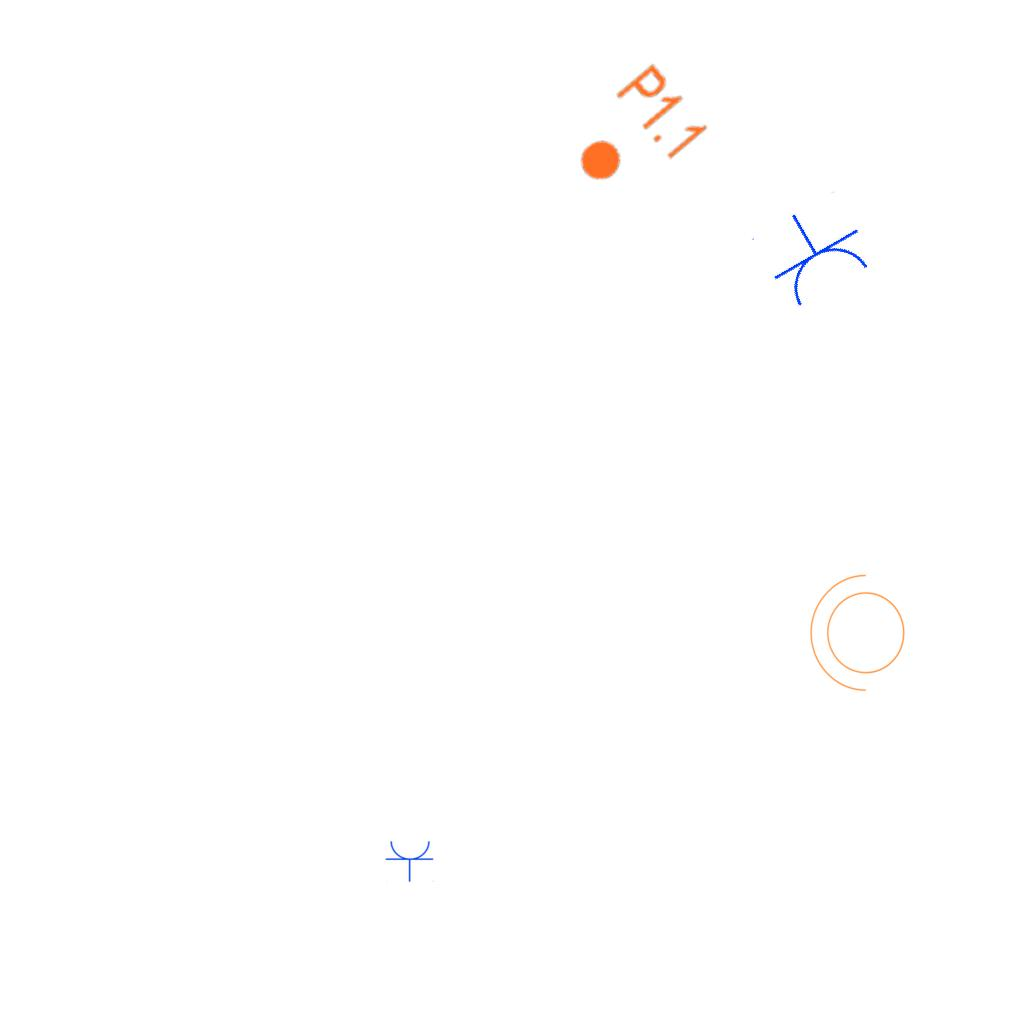Downlight_LED_Einbauleuchten_Flur: (555, 59, 714, 213)
Scheinwerfer_fuer_Alarmbeleuchtung: (805, 570, 917, 702)
Schukosteckdose_einfach: (748, 189, 880, 316), (385, 839, 435, 882)
